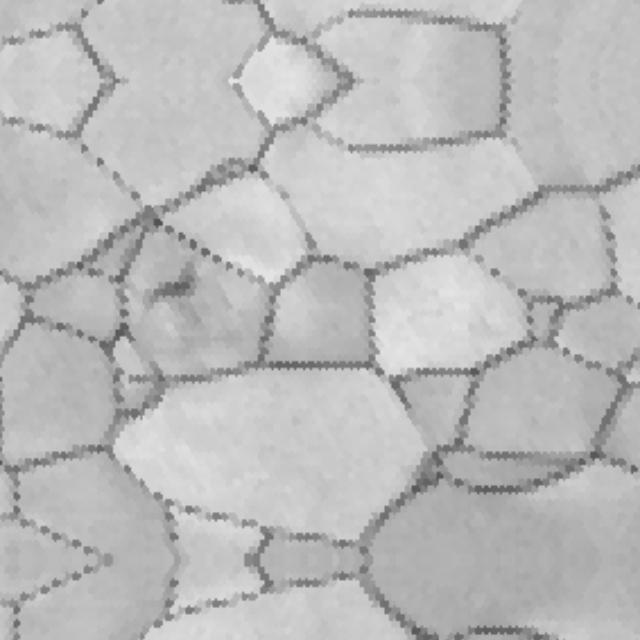good_void: (143, 258, 202, 307)
